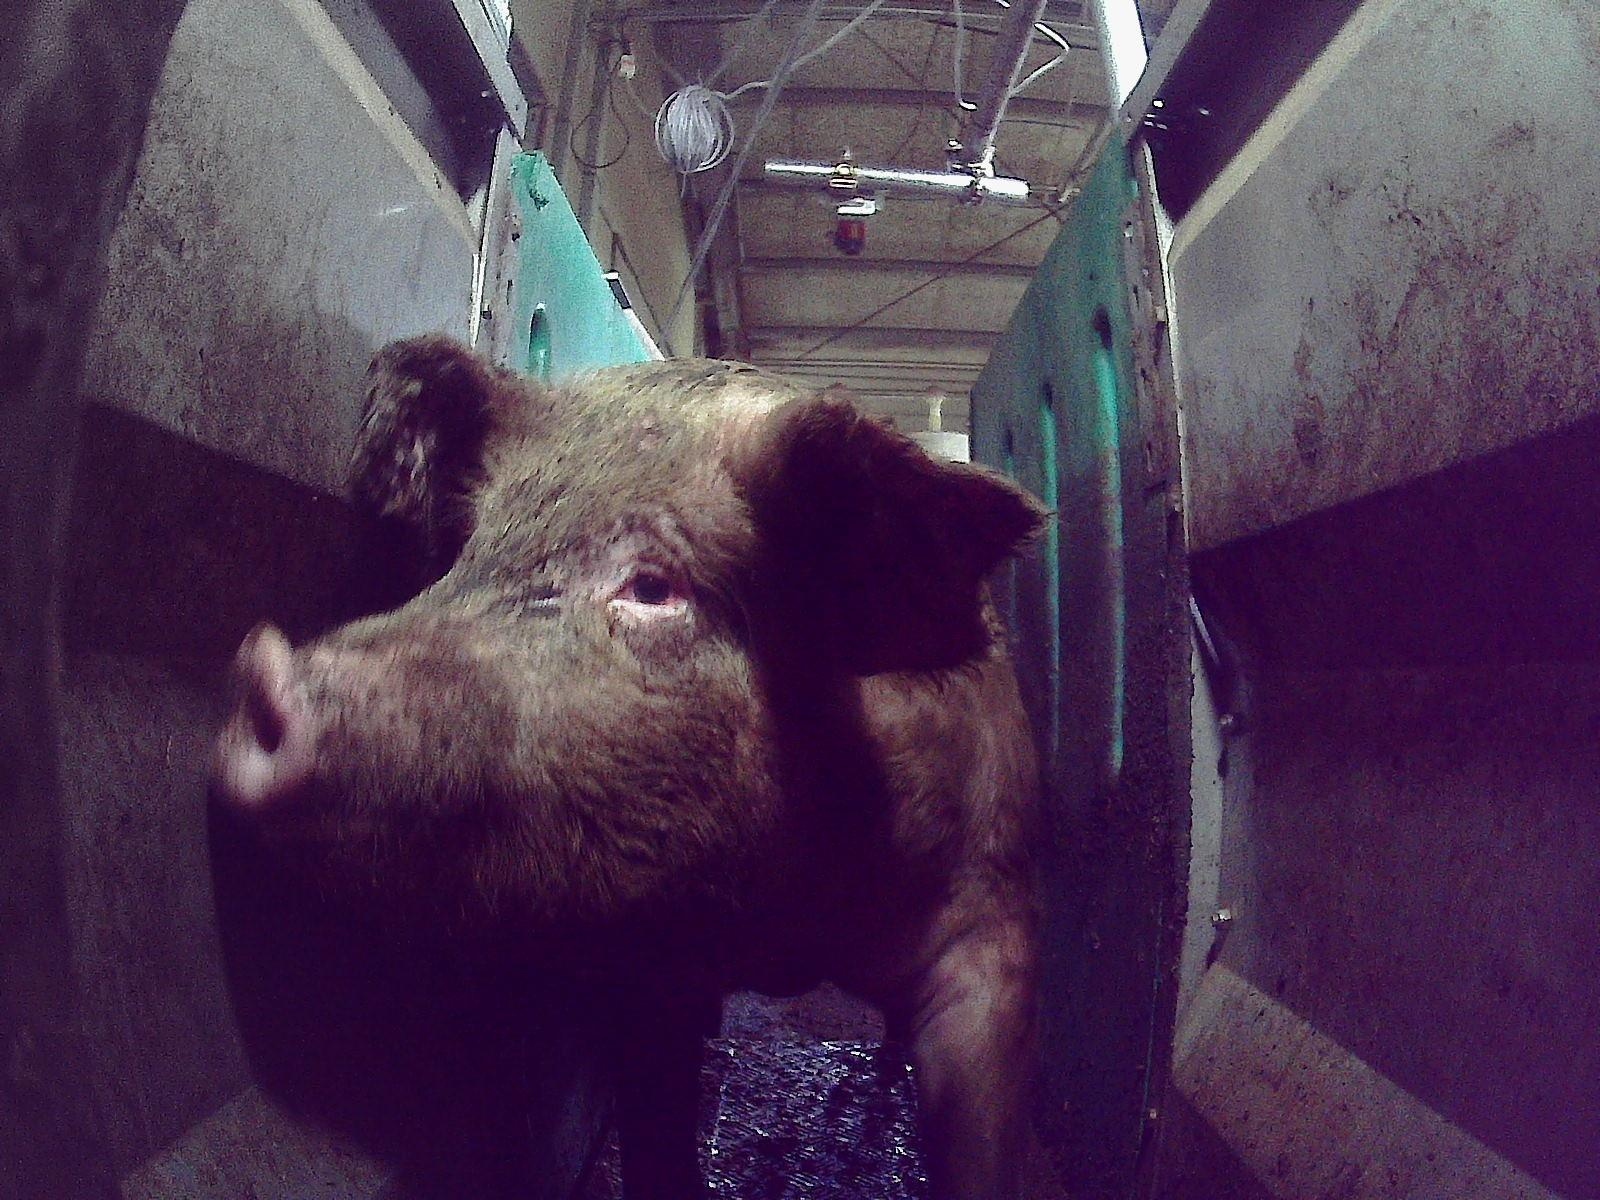Face: (212, 386, 859, 953)
